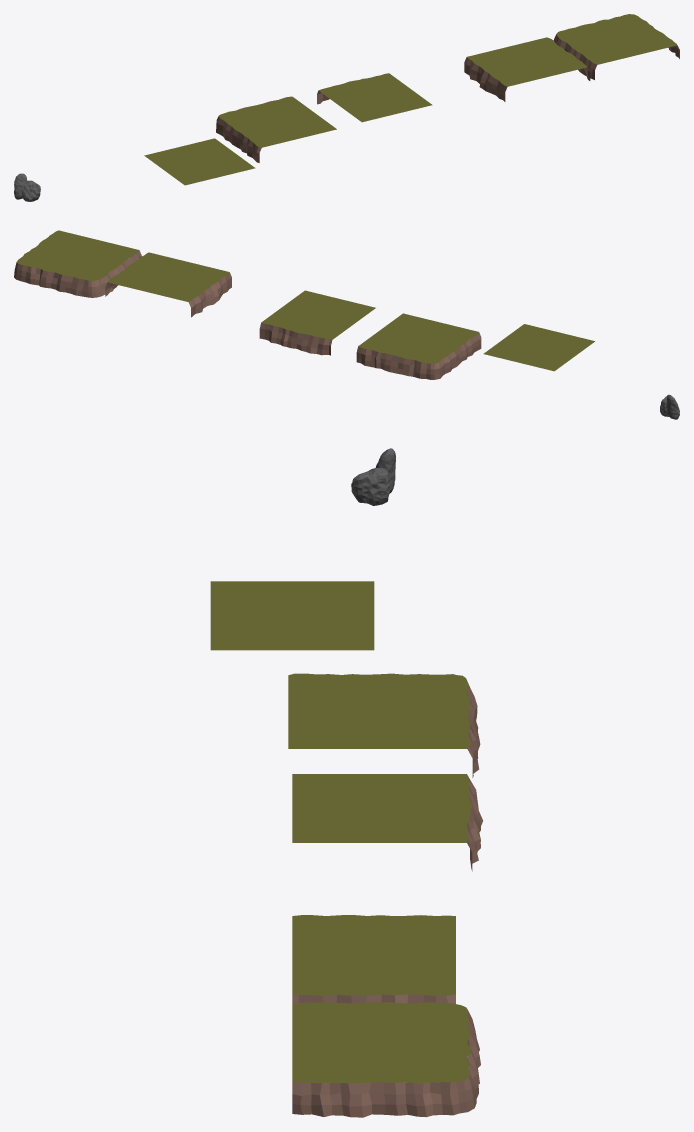
Rendered from ground.glb.
3 renders of one model, top to bottom at view 1: azimuth 30°, elevation 25°; view 2: azimuth 150°, elevation 25°; view 3: azimuth 270°, elevation 25°, orthographic. The views are drawn at different scales.
Parts seen in each view (by area): view 1: groundLeftBottom, groundTopBottom, groundLeftBottomTop, groundLeft, groundZero, rock.001; view 2: groundLeftBottom, groundLeftBottomTop, groundLeft, groundTopBottom, groundZero; view 3: groundLeftBottomTop, groundTopBottom, groundLeftBottom, groundLeft, groundZero, rock.001.
Boxes of the visible parts, x1,y1,x2,y2 form: groundLeftBottom: (216,96,336,162); groundTopBottom: (464,37,590,101); groundLeftBottomTop: (554,14,679,79); groundLeft: (317,73,432,122); groundZero: (144,138,255,185); rock.001: (22,180,40,201); groundLeftBottom: (356,313,481,379); groundLeftBottomTop: (14,230,141,297); groundLeft: (259,290,375,355); groundTopBottom: (105,252,231,317); groundZero: (483,324,594,371); groundLeftBottomTop: (292,1002,480,1117); groundTopBottom: (292,915,455,1003); groundLeftBottom: (288,673,480,777); groundLeft: (292,774,482,871); groundZero: (210,581,374,650); rock.001: (351,467,390,505).
Size of the model in its own units: 137 by 4.94 by 25.
